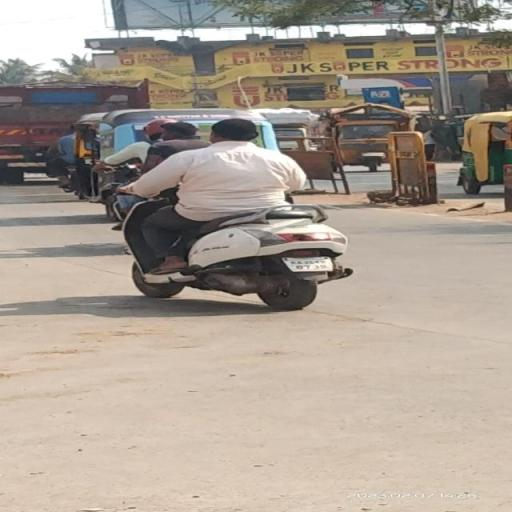bike: (112, 119, 356, 311)
numberplate: (284, 254, 336, 270)
withouthelmet: (214, 120, 255, 142)
